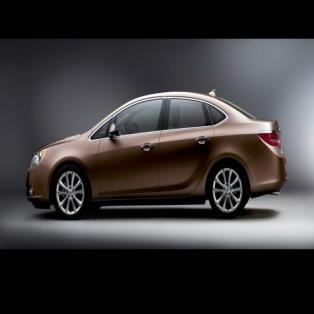Auto: (26, 88, 287, 220)
